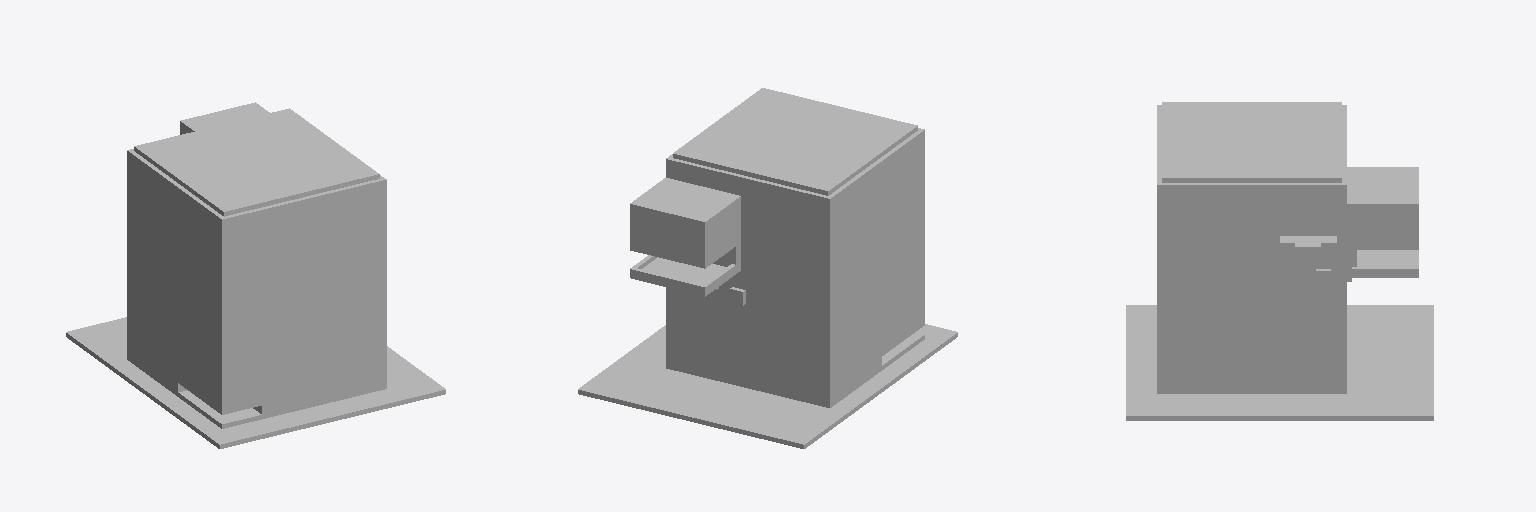
File: map.obj
3 renders of one model, left to right at view 1: azimuth 30°, elevation 25°; view 2: azimuth 150°, elevation 25°; view 3: azimuth 270°, elevation 25°, orthographic.
Parts seen in each view (by area): view 1: cg_jump_test__-16_-64_-30_to_34_319_29; view 2: cg_jump_test__-16_-64_-30_to_34_319_29; view 3: cg_jump_test__-16_-64_-30_to_34_319_29.
Boxes of the visible parts, <box> form: cg_jump_test__-16_-64_-30_to_34_319_29: <box>66,102,445,448</box>; cg_jump_test__-16_-64_-30_to_34_319_29: <box>578,88,957,448</box>; cg_jump_test__-16_-64_-30_to_34_319_29: <box>1126,102,1433,420</box>.
Size of the model in its own units: 102 by 94 by 120.